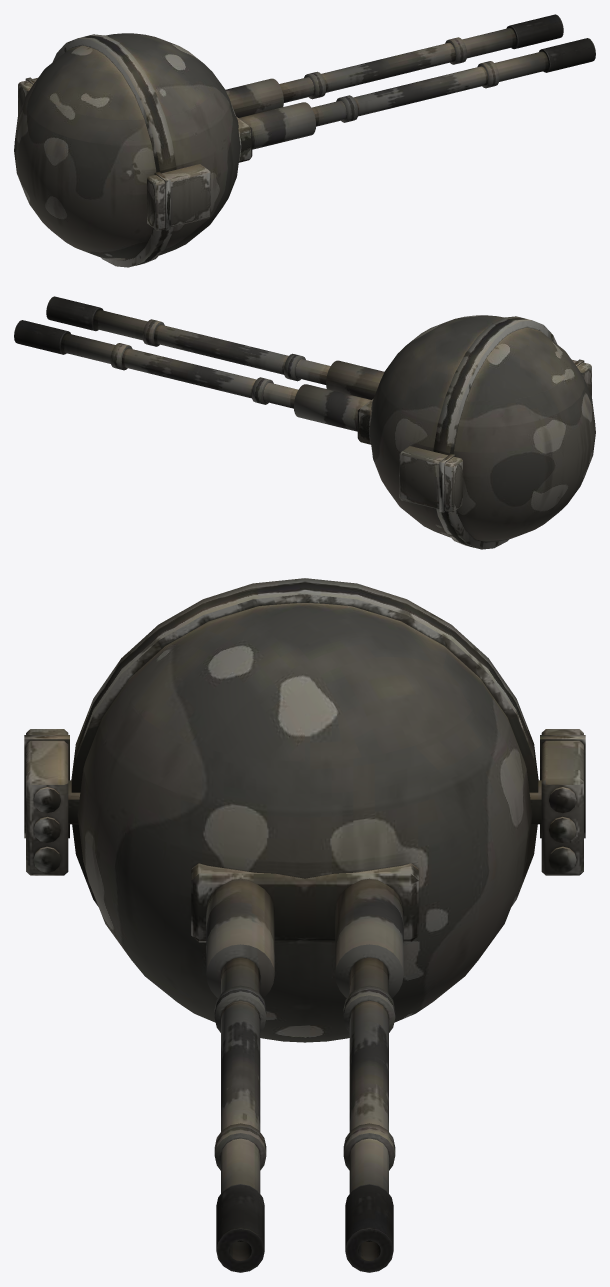
Rendered from turret_kit_tail_ball_t1_ash.glb.
3 renders of one model, top to bottom at view 1: azimuth 30°, elevation 25°; view 2: azimuth 150°, elevation 25°; view 3: azimuth 270°, elevation 25°, orthographic. The views are drawn at different scales.
Parts seen in each view (by area): view 1: turret_tail_ball_t1, pods; view 2: turret_tail_ball_t1, pods; view 3: turret_tail_ball_t1, pods.
Boxes of the visible parts, left/top/right/bottom form: turret_tail_ball_t1: left=14, top=14, right=595, bottom=267; pods: left=18, top=77, right=210, bottom=230; turret_tail_ball_t1: left=14, top=296, right=595, bottom=549; pods: left=399, top=359, right=591, bottom=512; turret_tail_ball_t1: left=71, top=578, right=538, bottom=1272; pods: left=24, top=729, right=585, bottom=875.
Size of the model in its own units: 1.66 by 0.62 by 0.7402.
2 materials, 2 textured.
